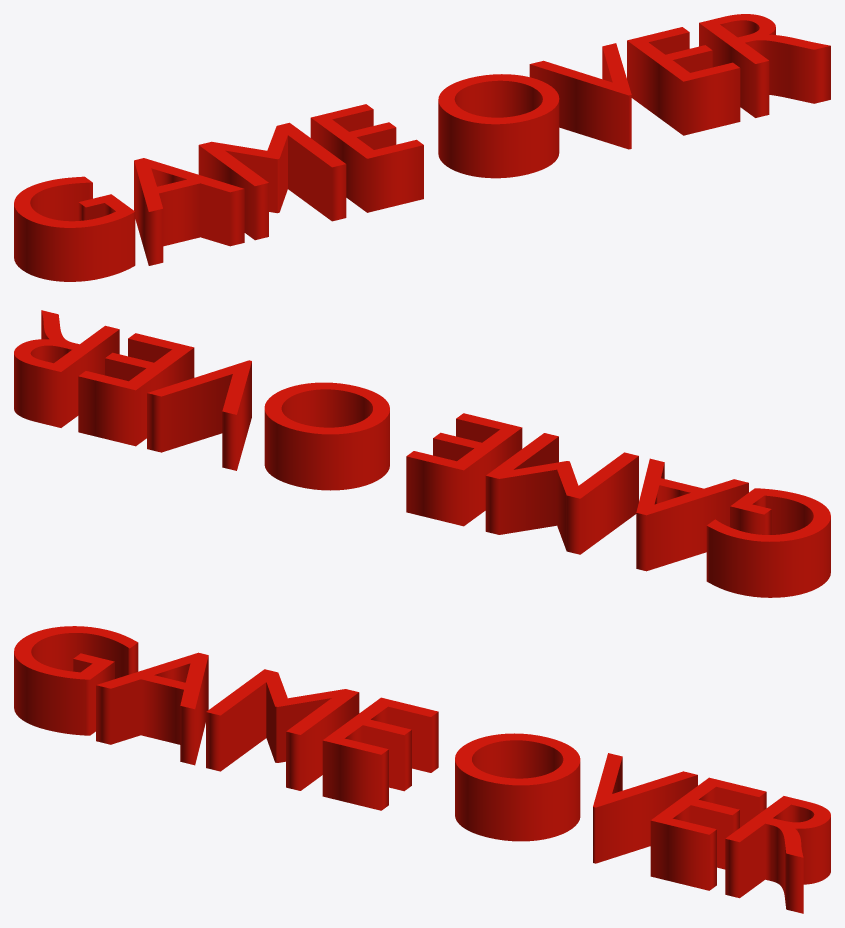
File: game_over.fbx
3 renders of one model, top to bottom at view 1: azimuth 30°, elevation 25°; view 2: azimuth 150°, elevation 25°; view 3: azimuth 330°, elevation 25°, orthographic. The views are drawn at different scales.
Parts seen in each view (by area): view 1: Text; view 2: Text; view 3: Text.
Boxes of the visible parts, <box> form: Text: <box>14,14,830,281</box>; Text: <box>14,310,830,597</box>; Text: <box>14,626,830,913</box>.
Bounding box in the file's own units: 545 × 36 × 70.
